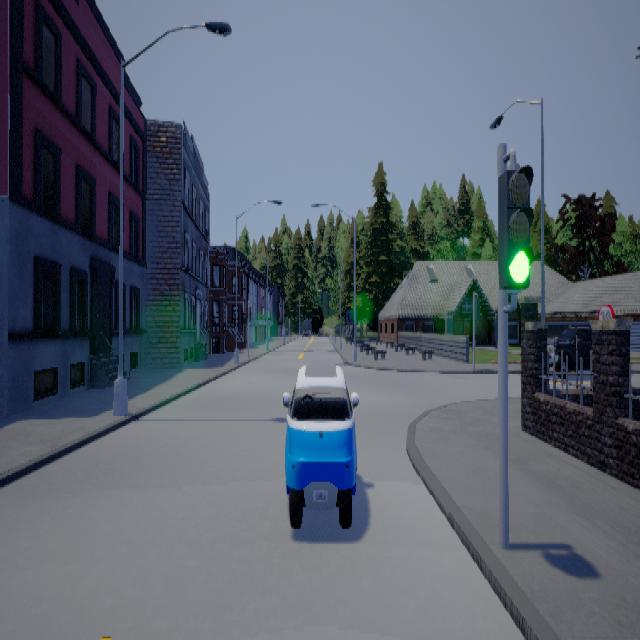green_light: (497, 146, 533, 312)
vehicle: (282, 361, 357, 527)
